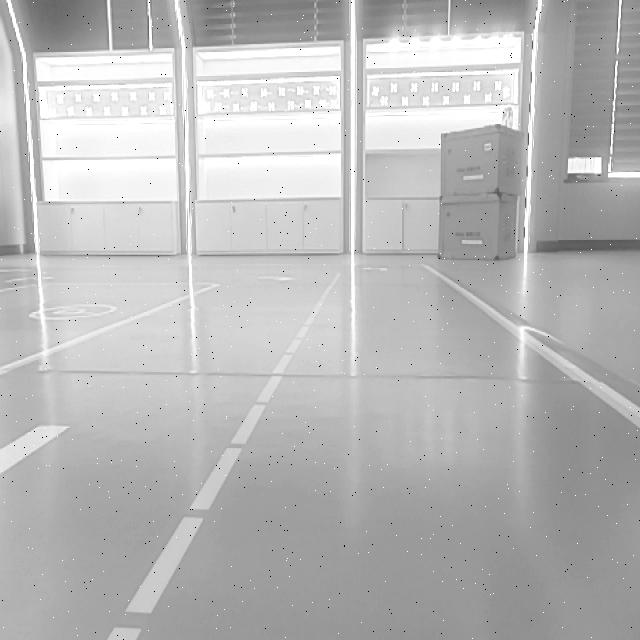left_lane: (112, 281, 330, 640)
right_lane: (436, 272, 640, 432), (0, 286, 214, 378)
